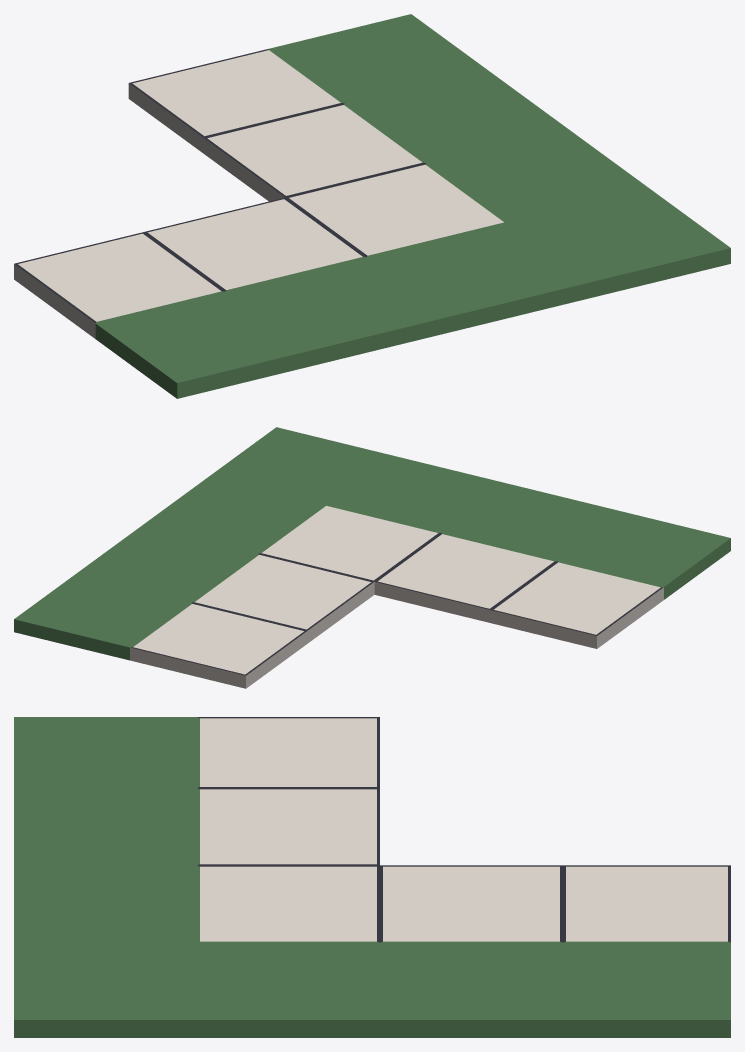
File: sidewalk_bend.fbx
The picture shows the model from 3 angles, top to bottom: view 1: azimuth 30°, elevation 25°; view 2: azimuth 150°, elevation 25°; view 3: azimuth 270°, elevation 25°; orthographic projection. The views are drawn at different scales.
Visible parts, largest first — view 1: Cube.003; view 2: Cube.003; view 3: Cube.003.
Part boxes in pixels (x1,y1,x2,y2): Cube.003: [14, 14, 730, 398]; Cube.003: [14, 427, 730, 688]; Cube.003: [14, 717, 730, 1037].
Bounding box in the file's own units: 717 × 19.57 × 717.
